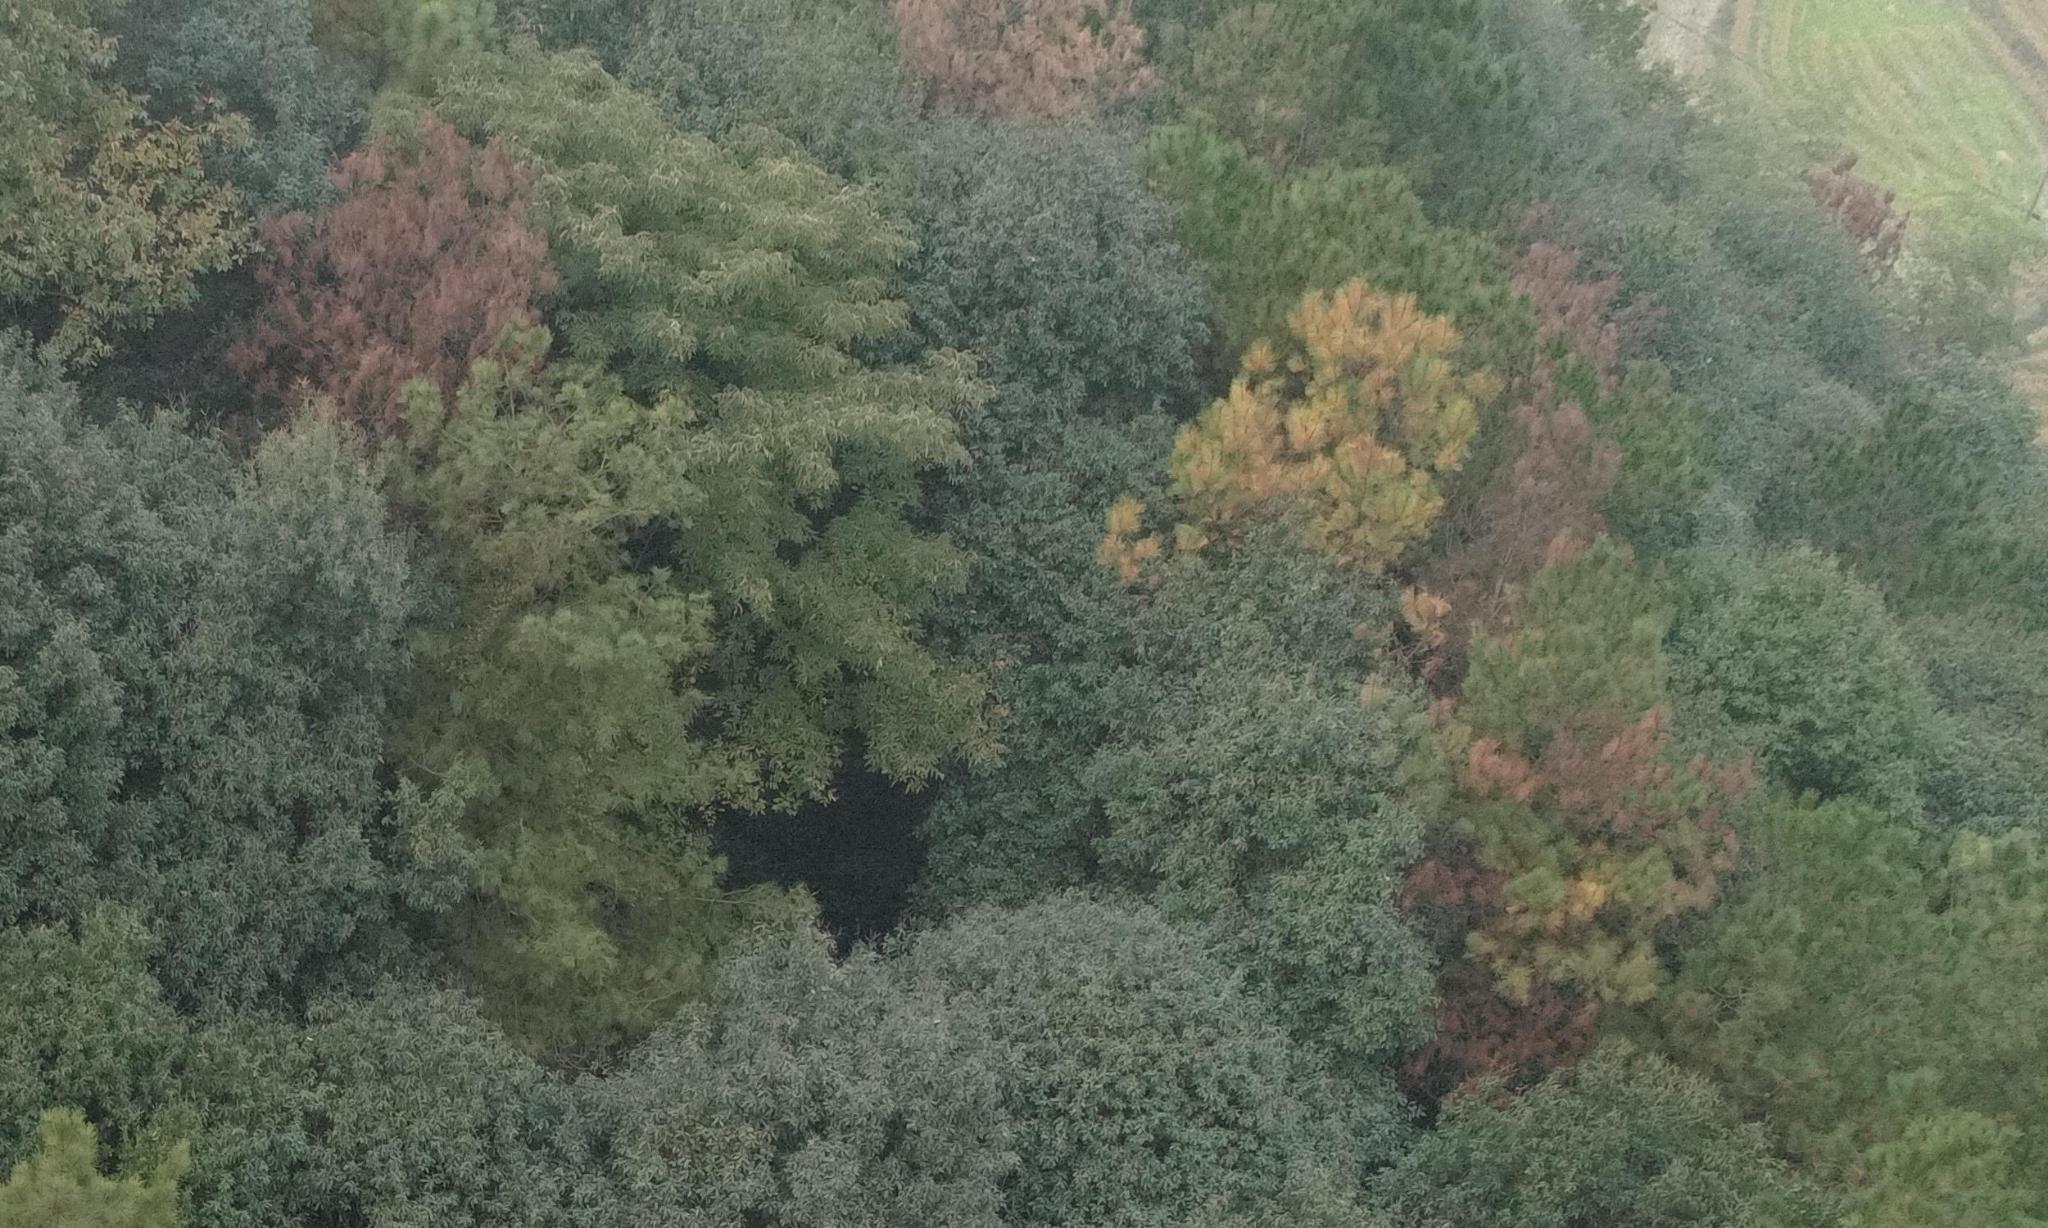heavy: (232, 113, 551, 420), (887, 7, 1143, 117)
light: (1131, 279, 1495, 561), (1428, 738, 1700, 1051)
